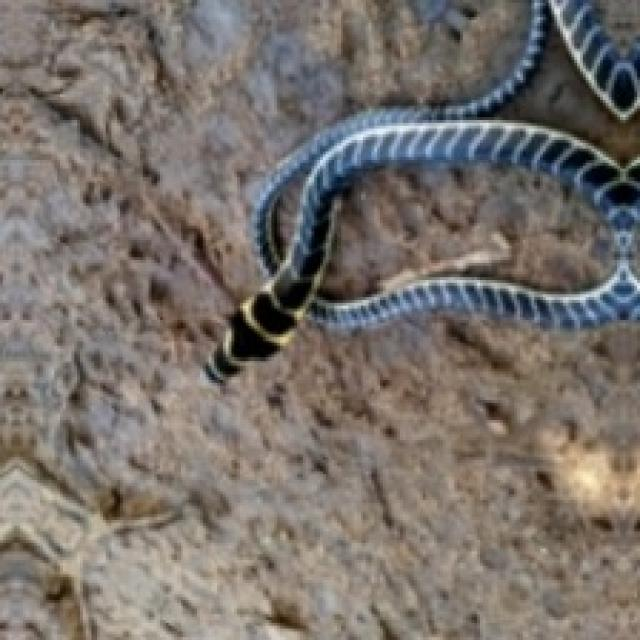king cobra: (206, 0, 637, 380), (314, 160, 614, 300), (551, 0, 637, 114)
